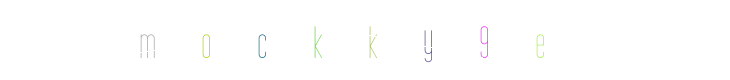9: (442, 0, 522, 80)
C: (312, 0, 392, 80)
E: (446, 0, 526, 80)
K: (325, 0, 405, 80), (336, 0, 416, 80)
M: (191, 0, 271, 80)
O: (217, 0, 297, 80)
Y: (337, 0, 417, 80)
